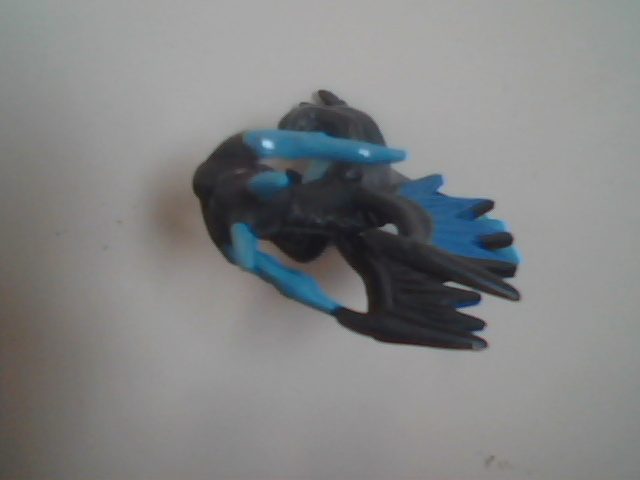charizard: (164, 41, 537, 409)
